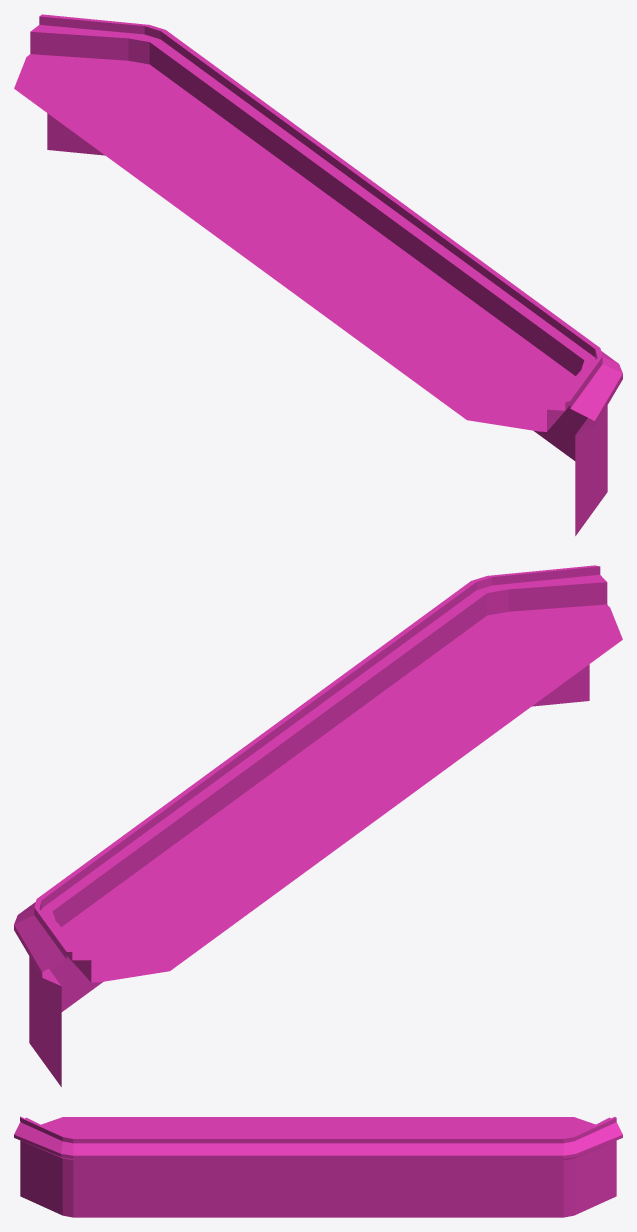
Rendered from LongPlanterCollider.fbx.
3 views of the same model, one above another, from view 1: azimuth 30°, elevation 25°; view 2: azimuth 150°, elevation 25°; view 3: azimuth 270°, elevation 25° (orthographic). The views are drawn at different scales.
Parts seen in each view (by area): view 1: Plane.005; view 2: Plane.005; view 3: Plane.005.
Boxes of the visible parts, x1,y1,x2,y2 form: Plane.005: (14,14,622,535); Plane.005: (14,565,622,1086); Plane.005: (14,1116,622,1217).
Bounding box in the file's own units: 1111 × 899 × 6426.
